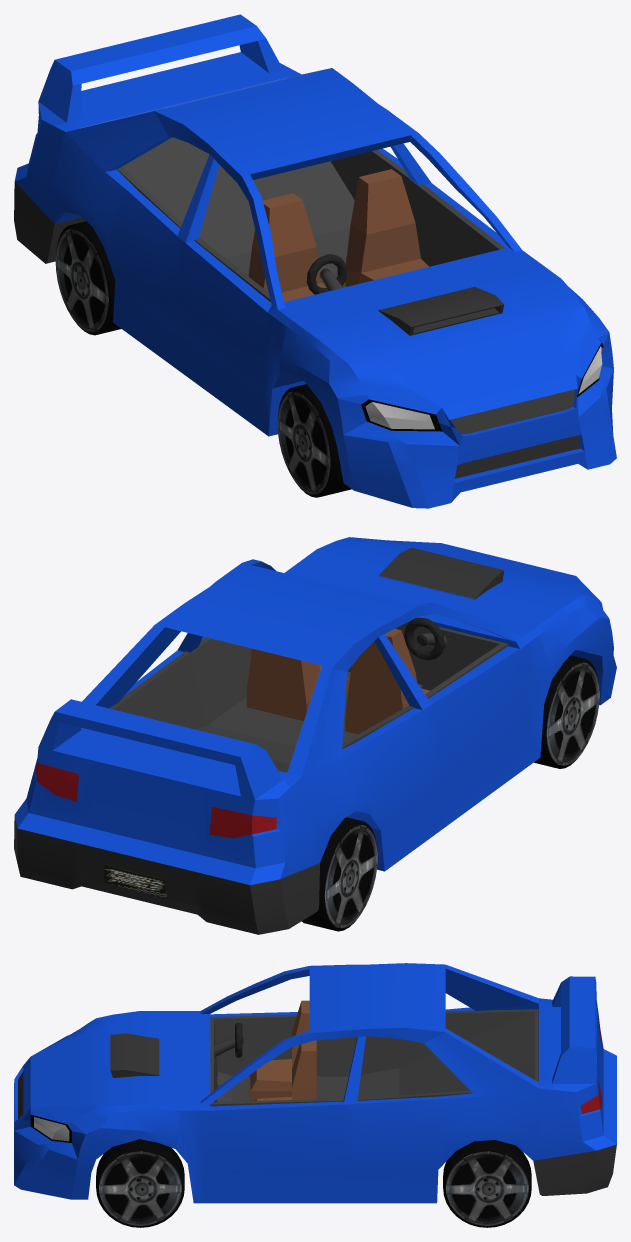
Rendered from SUBARU.fbx.
3 renders of one model, top to bottom at view 1: azimuth 30°, elevation 25°; view 2: azimuth 150°, elevation 25°; view 3: azimuth 270°, elevation 25°, orthographic. The views are drawn at different scales.
Visible parts, largest first — view 1: suburu, front_right.008, back_right.008, steeringwheel.010; view 2: suburu, back_right.008, front_right.008, steeringwheel.010; view 3: suburu, front_left.008, back_left.008.
Boxes of the visible parts, left/top/right/bottom form: suburu: left=14, top=14, right=616, bottom=508; front_right.008: left=277, top=384, right=351, bottom=497; back_right.008: left=55, top=221, right=121, bottom=335; steeringwheel.010: left=306, top=254, right=347, bottom=294; suburu: left=14, top=537, right=616, bottom=934; back_right.008: left=302, top=817, right=377, bottom=931; front_right.008: left=534, top=655, right=599, bottom=768; steeringwheel.010: left=404, top=617, right=444, bottom=660; suburu: left=14, top=963, right=616, bottom=1203; front_left.008: left=96, top=1139, right=184, bottom=1227; back_left.008: left=443, top=1140, right=531, bottom=1227.
Bounding box in the file's own units: 329 × 134 × 110.
